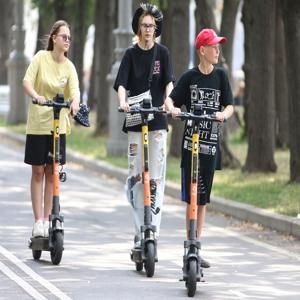human on a scooter: (164, 27, 235, 297), (112, 1, 175, 278), (21, 19, 90, 267)
